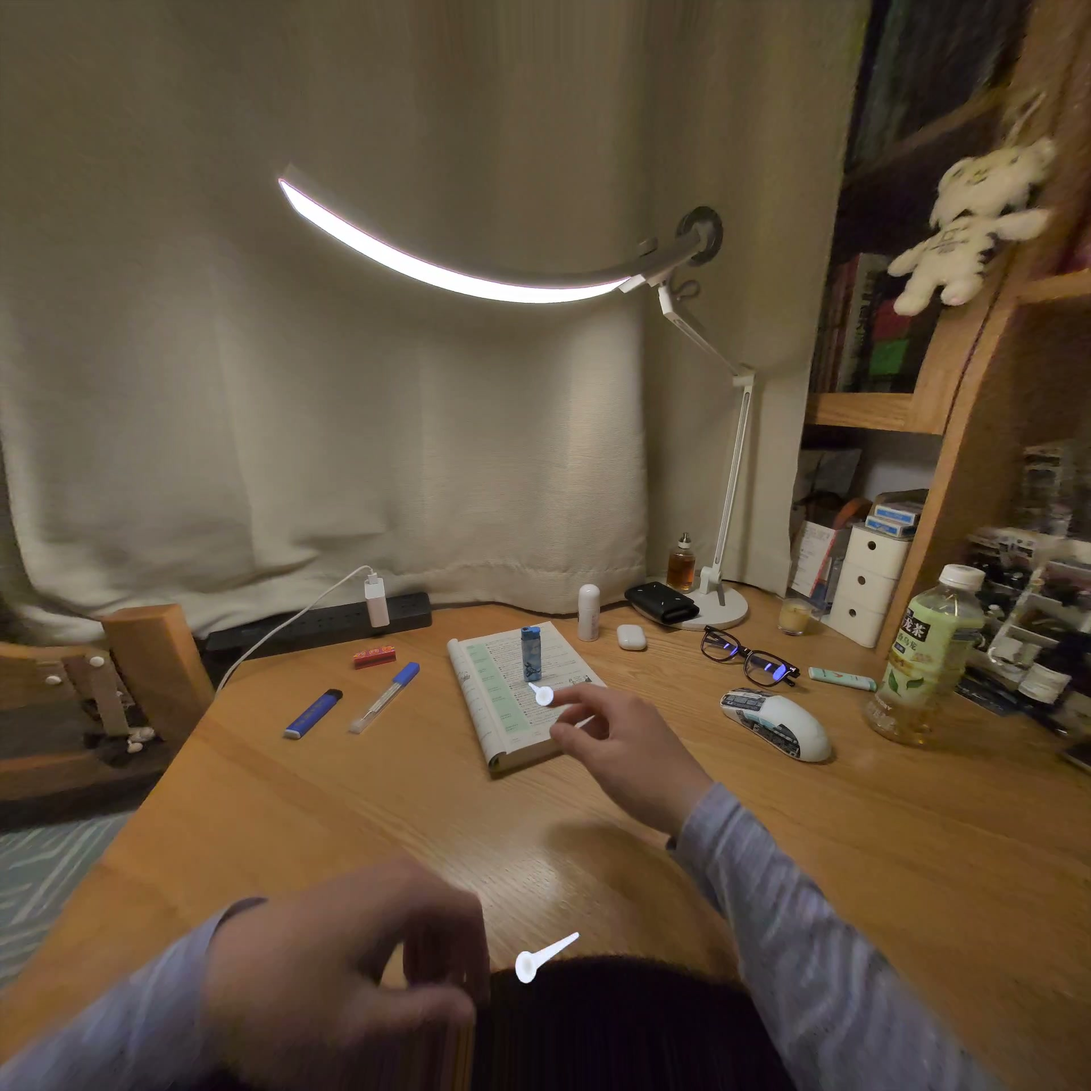lighter: (520, 626, 541, 682)
